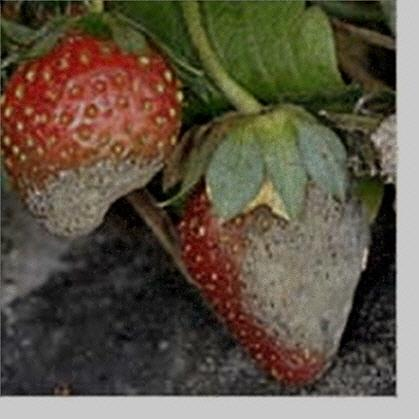Gray Mold: (182, 172, 373, 386), (9, 136, 176, 241)
